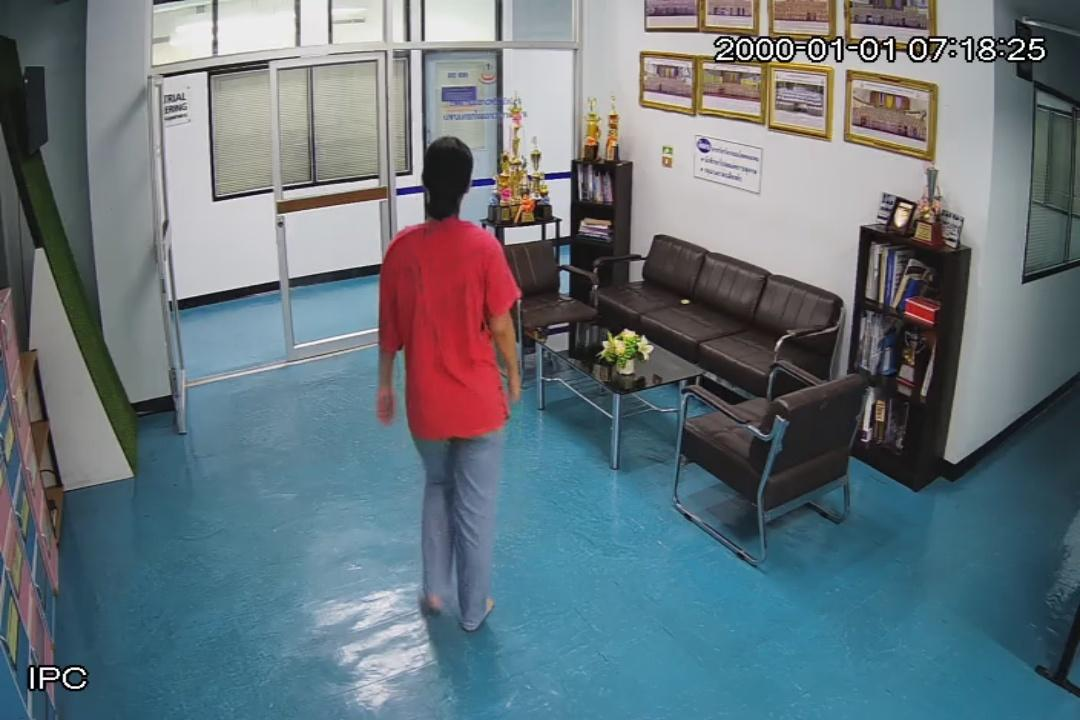normal: (379, 134, 519, 626)
